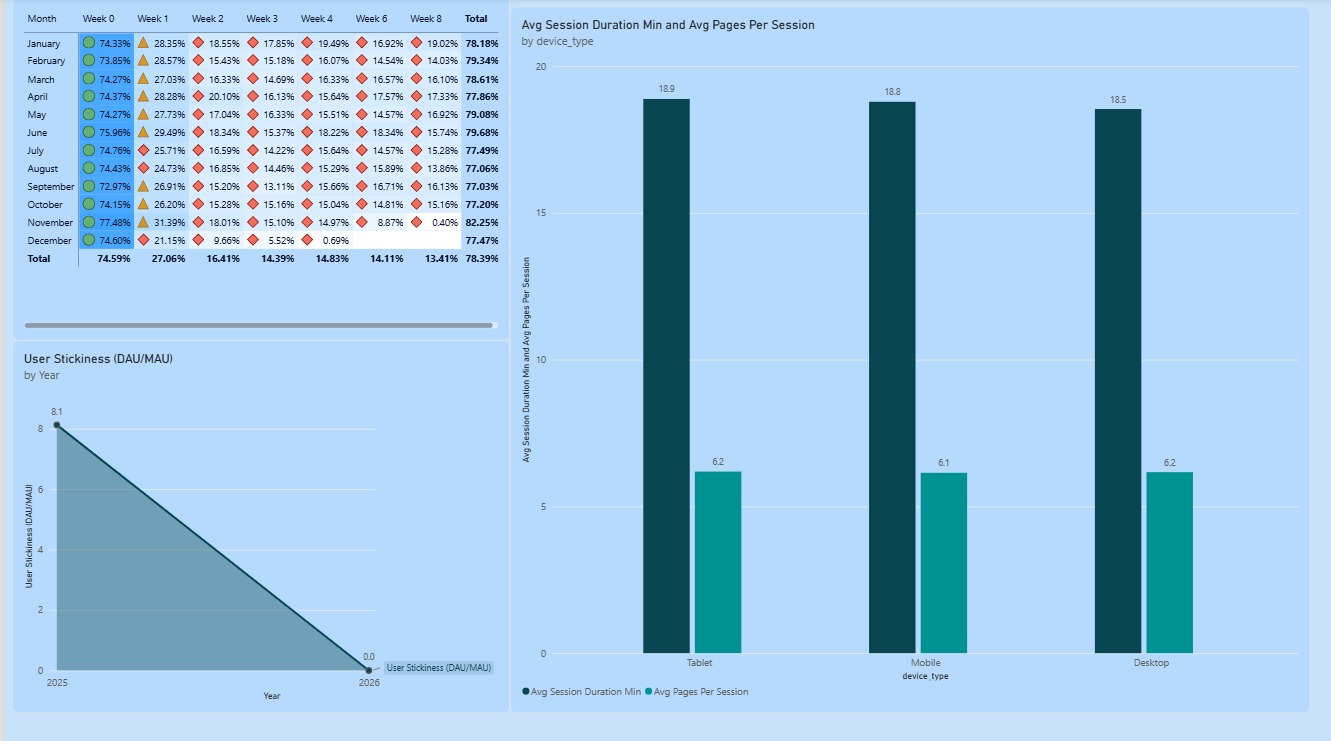

Layout of this report page (visuals, bound fields, positions):
{"tool":"powerbi","page":{"name":"Retention & Engagement","canvas":[1920,1080],"ordinal":2},"visuals":[{"type":"pivotTable","fields":{"Columns":["events.Weeks Since Signup"],"Rows":["users.signup_date.Variation.Date Hierarchy.Year","users.signup_date.Variation.Date Hierarchy.Quarter","users.signup_date.Variation.Date Hierarchy.Month","users.signup_date.Variation.Date Hierarchy.Day"],"Values":["_Measures.Cohort Retention Rate"]},"box":[10.9,0,720.2,495.8],"z":0},{"type":"lineChart","fields":{"Category":["Calendar.Date.Variation.Date Hierarchy.Year","Calendar.Date.Variation.Date Hierarchy.Quarter","Calendar.Date.Variation.Date Hierarchy.Month","Calendar.Date.Variation.Date Hierarchy.Day"],"Y":["_Measures.User Stickiness (DAU/MAU)"]},"box":[10.9,495.8,720.2,539.3],"z":1000},{"type":"clusteredColumnChart","fields":{"Category":["sessions.device_type"],"Y":["_Measures.Avg Session Duration Min","_Measures.Avg Pages Per Session"]},"box":[731.1,12.7,1158.2,1022.5],"z":2000}]}

Visuals, with their boxes in screenshot pixels (x1, y1, x2, y2), scaled from the page's 1920x1080 canvas onto the 1331x741 screenshot:
pivotTable - events.Weeks Since Signup x users.signup_date.Variation.Date Hierarchy.Year: 8, 0, 507, 340
lineChart - Calendar.Date.Variation.Date Hierarchy.Year x Calendar.Date.Variation.Date Hierarchy.Quarter: 8, 340, 507, 710
clusteredColumnChart - sessions.device_type x _Measures.Avg Session Duration Min: 507, 9, 1310, 710
